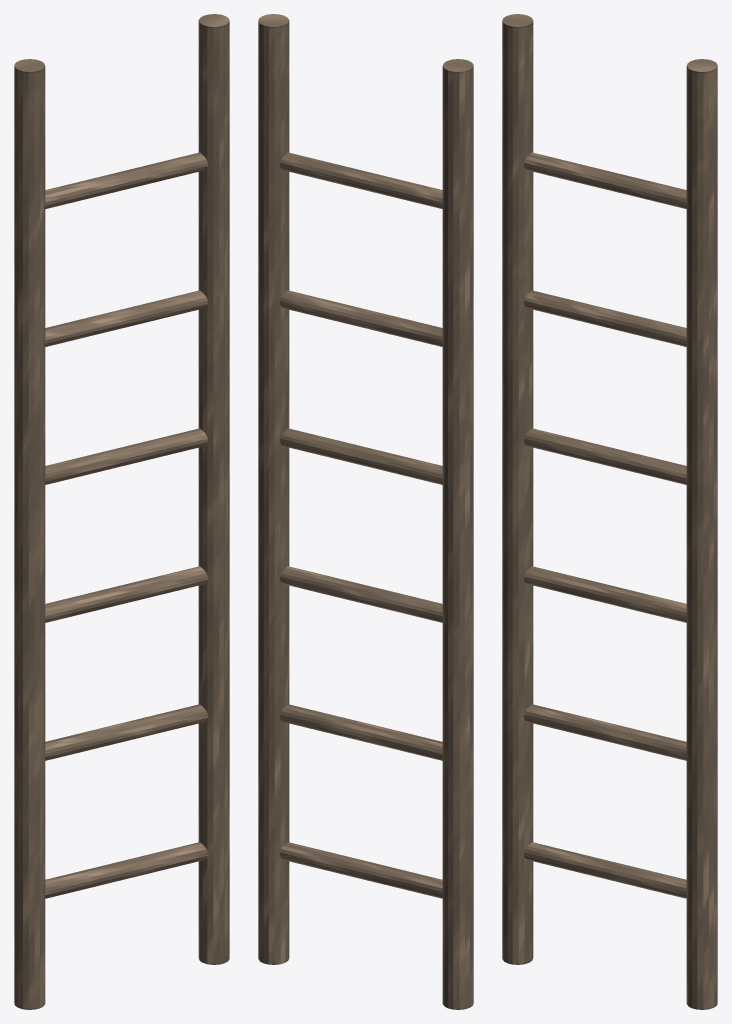
The model's file is ladder.obj.
3 renders of one model, left to right at view 1: azimuth 30°, elevation 25°; view 2: azimuth 150°, elevation 25°; view 3: azimuth 330°, elevation 25°, orthographic.
Visible parts, largest first — view 1: Posts, Rungs; view 2: Posts, Rungs; view 3: Posts, Rungs.
Part boxes in pixels (x1,y1,x2,y2): Posts: (14,14,229,1009); Rungs: (45,152,207,898); Posts: (258,14,473,1009); Rungs: (280,152,442,898); Posts: (502,14,717,1009); Rungs: (524,152,686,898).
Bounding box in the file's own units: 0.5 × 2.12 × 0.0625.
Materials: 1 (1 with a texture image).
